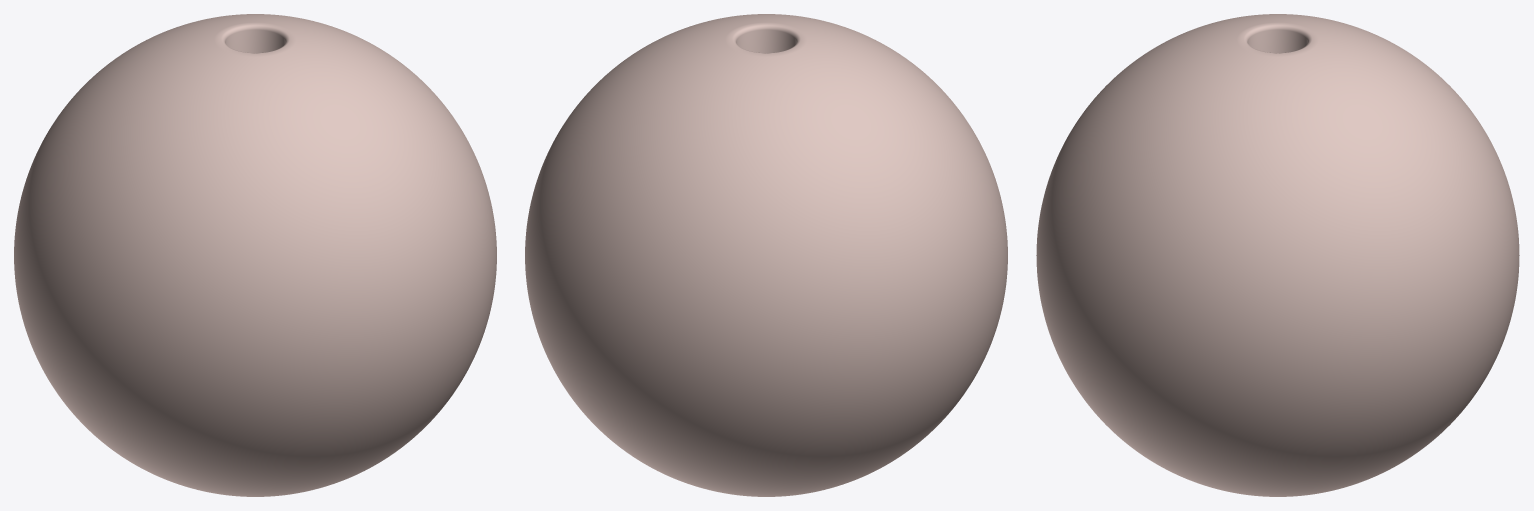
The model's file is morganite-clear-8mm.glb.
3 renders of one model, left to right at view 1: azimuth 30°, elevation 25°; view 2: azimuth 150°, elevation 25°; view 3: azimuth 270°, elevation 25°, orthographic.
Visible parts, largest first — view 1: 冰透摩根石; view 2: 冰透摩根石; view 3: 冰透摩根石.
Boxes of the visible parts, bbox=[...] form: 冰透摩根石: bbox=[14, 14, 496, 496]; 冰透摩根石: bbox=[525, 14, 1007, 496]; 冰透摩根石: bbox=[1036, 14, 1519, 496].
Bounding box in the file's own units: 0.008 × 0.00792 × 0.008.
